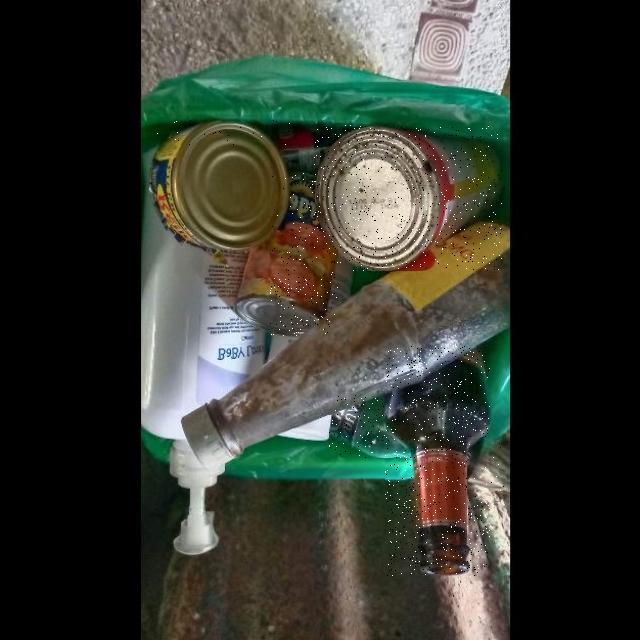glass: (385, 346, 490, 575), (330, 395, 412, 457), (468, 437, 509, 493)
metal: (315, 125, 502, 270), (148, 119, 290, 250), (234, 170, 338, 336)
plastic: (140, 145, 270, 555)
